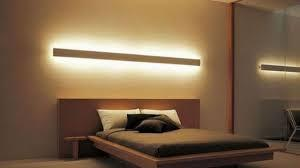Lamp: (46, 40, 206, 70)
